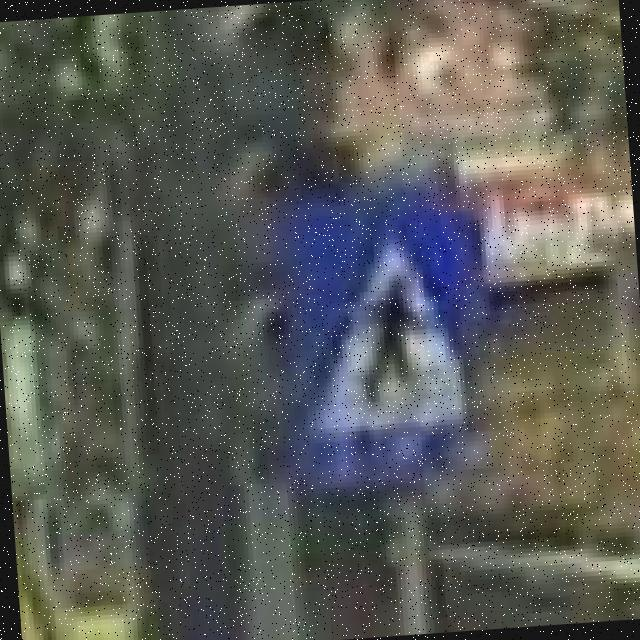Przejscie dla pieszych: (276, 187, 498, 495)
